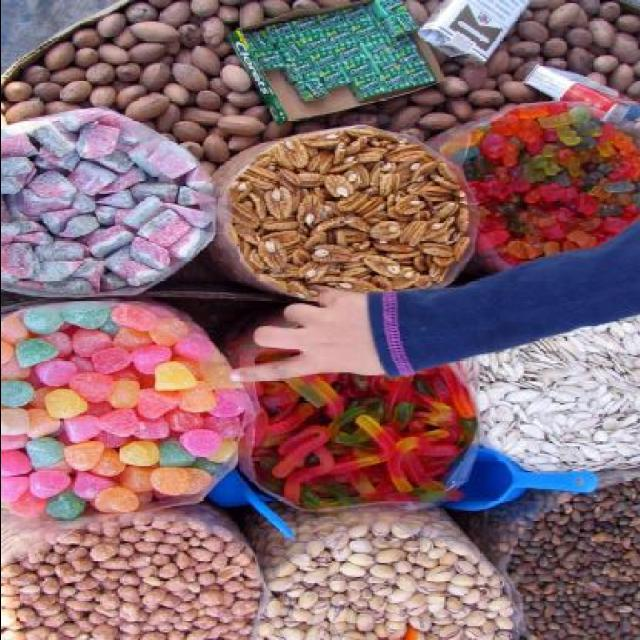Candy: (220, 314, 480, 512), (30, 314, 226, 524), (0, 107, 217, 296), (425, 100, 640, 271)
